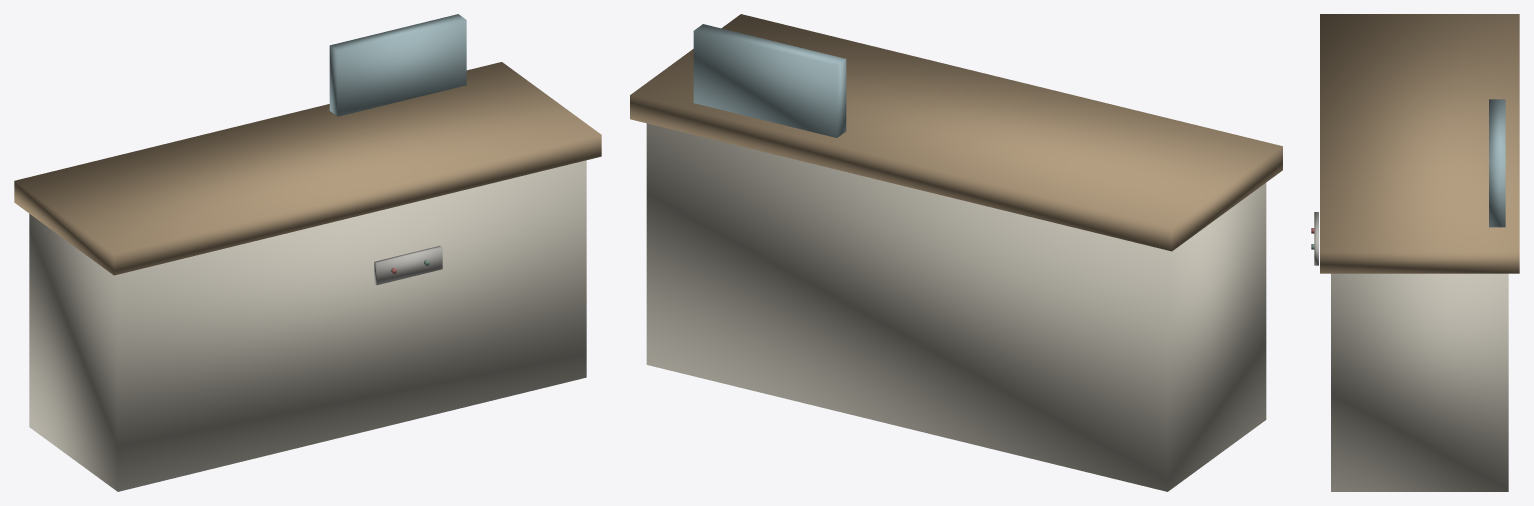
Rendered from pharmacy_pickup_counter__compact.glb.
3 renders of one model, left to right at view 1: azimuth 30°, elevation 25°; view 2: azimuth 150°, elevation 25°; view 3: azimuth 270°, elevation 25°, orthographic. The views are drawn at different scales.
Parts seen in each view (by area): view 1: world; view 2: world; view 3: world.
Part boxes in pixels (bbox=[...]): world: bbox=[14, 14, 601, 491]; world: bbox=[630, 14, 1282, 491]; world: bbox=[1311, 14, 1519, 491].
Size of the model in its own units: 1.75 by 1.06 by 0.6459.
